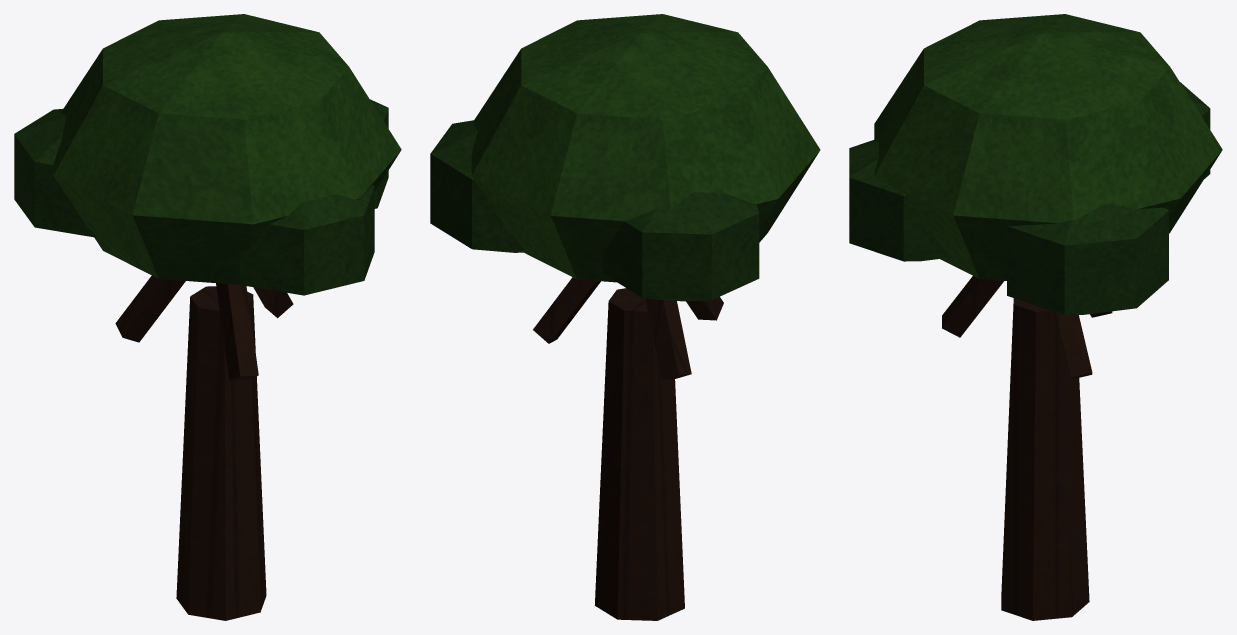
The model's file is oak.gltf.
The picture shows the model from 3 angles, left to right: view 1: azimuth 30°, elevation 25°; view 2: azimuth 150°, elevation 25°; view 3: azimuth 270°, elevation 25°; orthographic projection.
Parts seen in each view (by area): view 1: Oak; view 2: Oak; view 3: Oak.
Boxes of the visible parts, left/top/right/bottom form: Oak: left=14, top=14, right=401, bottom=620; Oak: left=430, top=14, right=820, bottom=620; Oak: left=849, top=14, right=1222, bottom=620.
Size of the model in its own units: 1.32 by 2.17 by 1.29.
3 materials, 3 textured.
